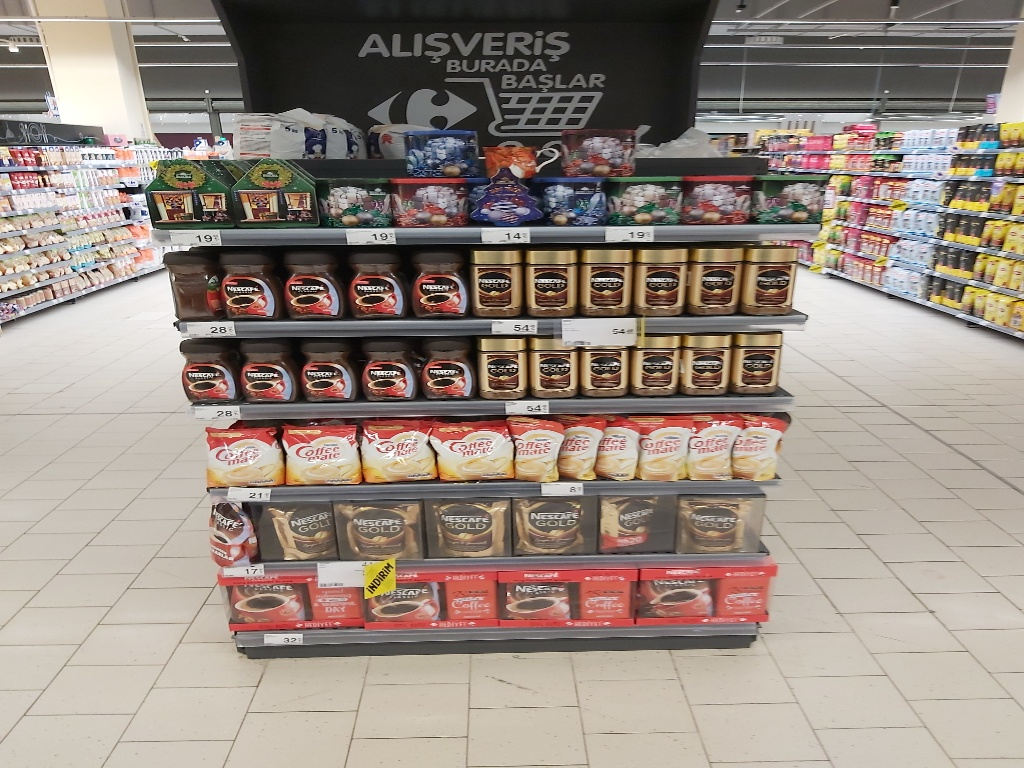urun: (211, 573, 367, 636), (360, 566, 503, 634), (634, 557, 777, 625), (500, 561, 644, 628), (228, 155, 324, 221), (352, 421, 453, 480), (422, 494, 512, 556), (509, 494, 599, 556), (594, 486, 684, 548), (337, 495, 426, 557), (675, 488, 753, 557), (278, 422, 366, 481), (393, 125, 483, 182), (387, 174, 475, 232), (201, 419, 289, 477), (424, 419, 512, 477), (216, 242, 282, 319), (340, 243, 406, 320), (404, 243, 470, 320), (278, 246, 343, 323), (461, 243, 526, 320), (253, 498, 334, 559), (205, 493, 268, 564), (577, 239, 634, 315), (525, 239, 581, 315), (634, 237, 690, 312), (689, 236, 745, 311), (744, 236, 800, 311), (161, 244, 216, 320), (468, 169, 540, 227), (312, 169, 389, 223), (751, 166, 829, 219), (732, 415, 787, 490), (408, 335, 475, 396), (229, 338, 296, 398), (289, 338, 356, 398), (349, 337, 416, 397), (173, 339, 239, 399), (636, 416, 694, 480), (524, 329, 579, 396), (630, 330, 685, 397), (682, 329, 737, 396), (474, 328, 529, 394), (579, 332, 634, 398), (503, 417, 563, 477), (540, 178, 609, 228), (612, 173, 681, 223), (685, 169, 754, 219), (731, 332, 787, 392), (594, 413, 644, 480), (556, 413, 605, 479), (682, 421, 735, 479)
urun2: (140, 156, 236, 223)
